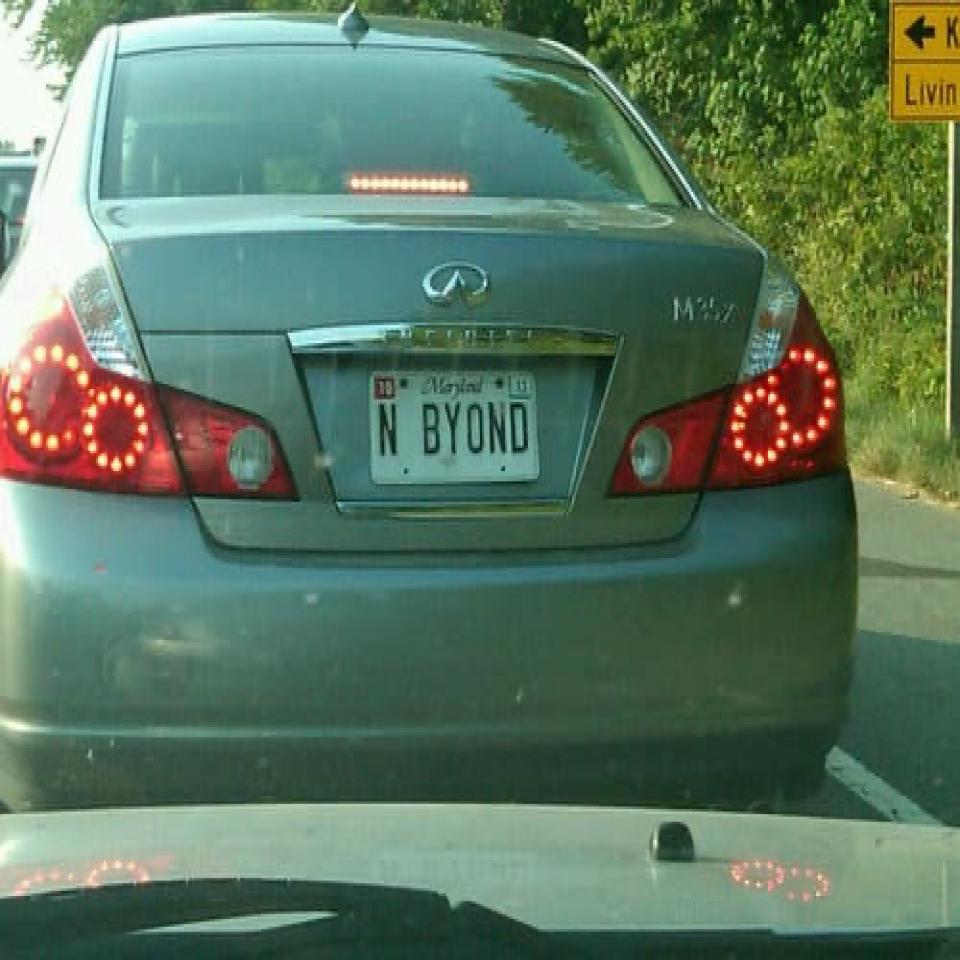licence: (368, 369, 534, 476)
